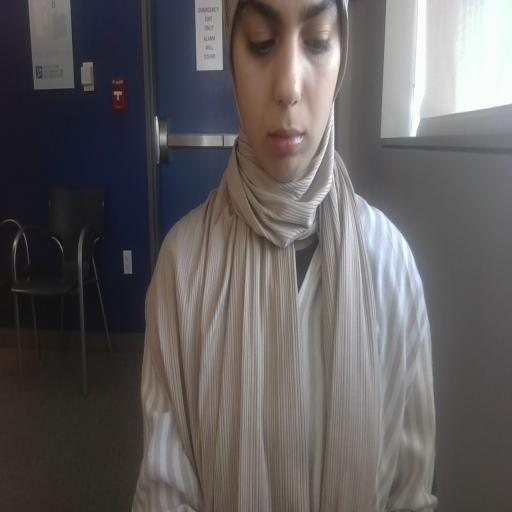objects: (243, 11, 339, 157)
